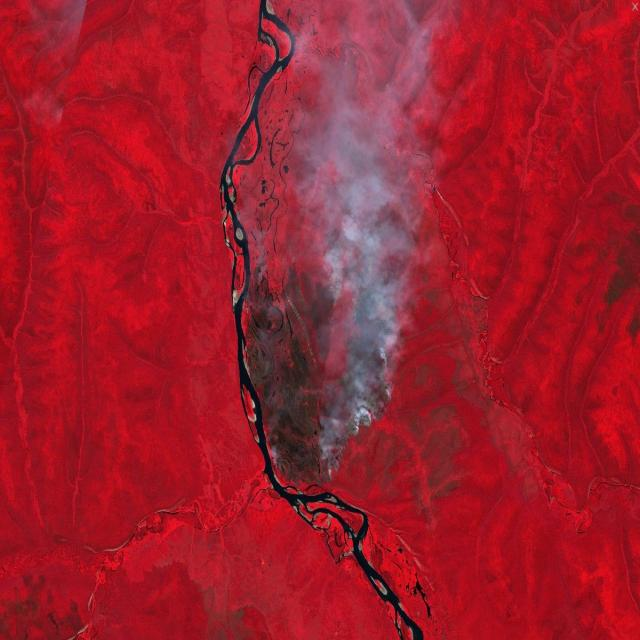fire: (286, 255, 395, 477)
